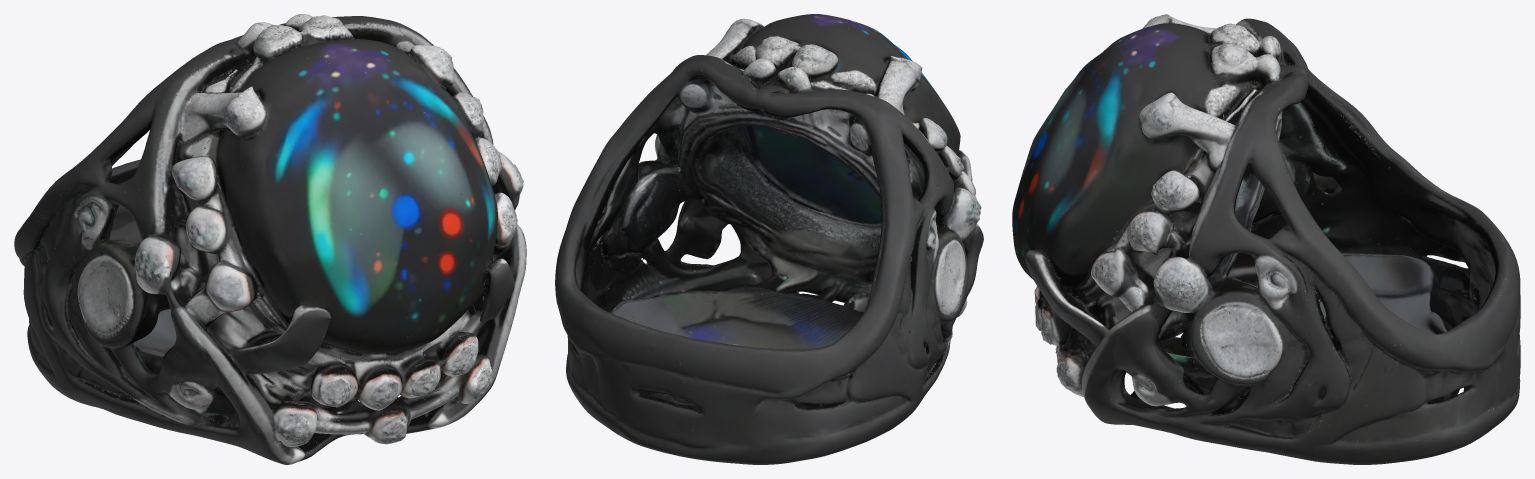
The model's file is ring-2028.glb.
3 views of the same model, side by side, from view 1: azimuth 30°, elevation 25°; view 2: azimuth 150°, elevation 25°; view 3: azimuth 270°, elevation 25° (orthographic). The views are drawn at different scales.
Bounding box in the file's own units: 1.75 × 1.56 × 2.
1 material, 1 textured.
